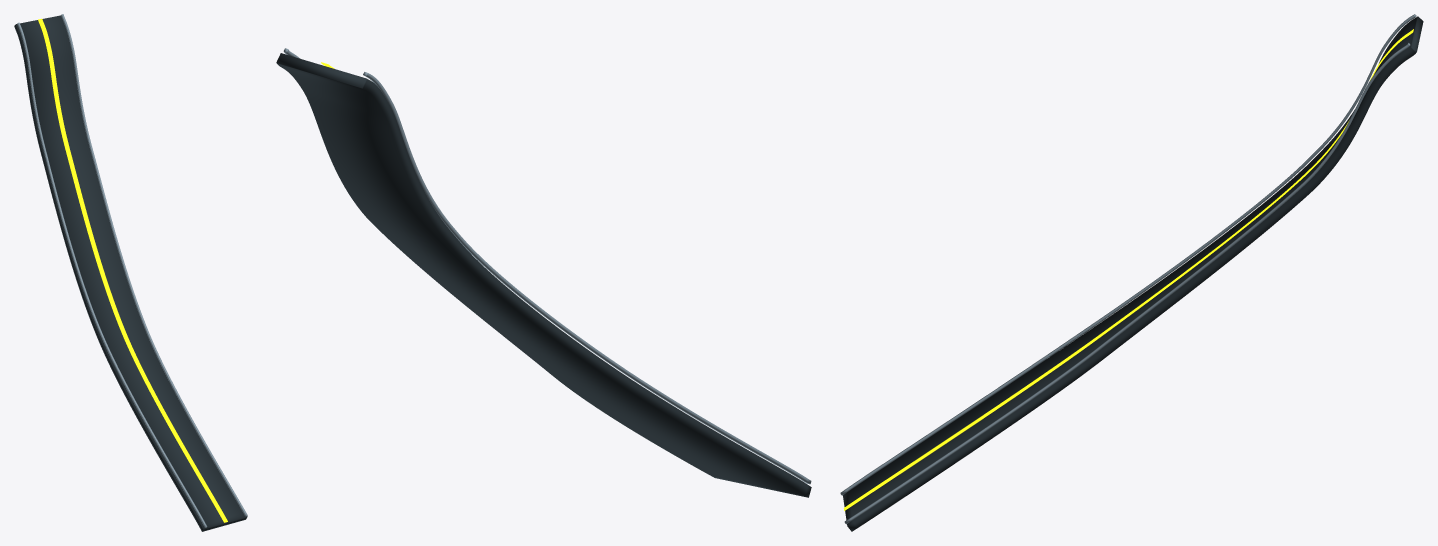
Rendered from ARMI_v017_BoxIngress.glb.
3 renders of one model, left to right at view 1: azimuth 30°, elevation 25°; view 2: azimuth 150°, elevation 25°; view 3: azimuth 270°, elevation 25°, orthographic. The views are drawn at different scales.
Visible parts, largest first — view 1: GEO-V017-BoxIngressDeck, GEO-V017-BoxIngressRails, GEO-V017-BoxIngressSignal; view 2: GEO-V017-BoxIngressDeck, GEO-V017-BoxIngressRails; view 3: GEO-V017-BoxIngressDeck, GEO-V017-BoxIngressRails, GEO-V017-BoxIngressSignal.
Part boxes in pixels (x1,y1,x2,y2): GEO-V017-BoxIngressDeck: [14, 15, 247, 531]; GEO-V017-BoxIngressRails: [17, 14, 247, 527]; GEO-V017-BoxIngressSignal: [38, 18, 227, 522]; GEO-V017-BoxIngressDeck: [276, 53, 811, 497]; GEO-V017-BoxIngressRails: [283, 48, 811, 484]; GEO-V017-BoxIngressDeck: [843, 16, 1423, 531]; GEO-V017-BoxIngressRails: [840, 14, 1416, 524]; GEO-V017-BoxIngressSignal: [843, 29, 1413, 510].
Size of the model in its own units: 8.2 by 38.91 by 41.18.
